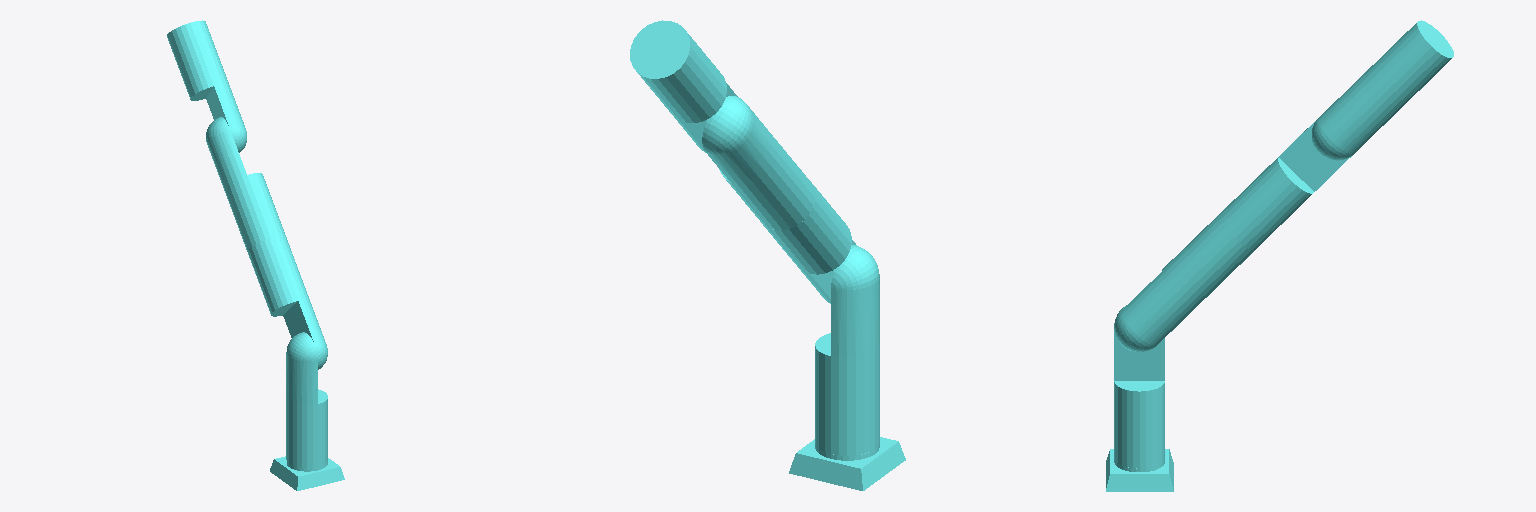
The robot description file, URDF, robot "sw2urdf-example":
<?xml version="1.0" encoding="utf-8"?>
<!-- This URDF was automatically created by SolidWorks to URDF Exporter! Originally created by Stephen Brawner (brawner@gmail.com) 
     Commit Version: 1.5.1-0-g916b5db  Build Version: 1.5.7152.31018
     For more information, please see http://wiki.ros.org/sw_urdf_exporter -->
<robot
  name="sw2urdf-example">

  <!-- ===== ДОБАВЛЕНО: фиктивное мировое звено и фиксированный сустав ===== -->
  <link name="world"/>

  <joint name="world_joint" type="fixed">
    <parent link="world"/>
    <child link="base_link"/>
    <origin xyz="0 0 0" rpy="0 0 0"/>
  </joint>
  <!-- ==================================================================== -->

  <link
    name="base_link">
    <inertial>
      <origin
        xyz="0 1.20463274801058E-17 0.0109992961818199"
        rpy="0 0 0" />
      <mass
        value="0.992874017149237" />
      <inertia
        ixx="0.000487464129670462"
        ixy="-3.2384120981451E-20"
        ixz="1.98289001584187E-36"
        iyy="0.000487464129670462"
        iyz="5.61109884337115E-20"
        izz="0.000882976507717156" />
    </inertial>
    <visual>
      <origin
        xyz="0 0 0"
        rpy="0 0 0" />
      <geometry>
        <mesh
          filename="package://sw2urdf-example/meshes/base_link.STL" />
      </geometry>
      <material
        name="">
        <color
          rgba="0.501960784313725 1 1 1" />
      </material>
    </visual>
    <collision>
      <origin
        xyz="0 0 0"
        rpy="0 0 0" />
      <geometry>
        <mesh
          filename="package://sw2urdf-example/meshes/base_link.STL" />
      </geometry>
    </collision>
  </link>
  <link
    name="link_1">
    <inertial>
      <origin
        xyz="-0.00384919890108487 0.0795689655172414 -1.16215069411395E-18"
        rpy="0 0 0" />
      <mass
        value="3.21012649732785" />
      <inertia
        ixx="0.00949086208873095"
        ixy="0.000797469625841797"
        ixz="-4.06929889510318E-20"
        iyy="0.00137706970018608"
        iyz="2.83479428133353E-19"
        izz="0.00944329978820635" />
    </inertial>
    <visual>
      <origin
        xyz="0 0 0"
        rpy="0 0 0" />
      <geometry>
        <mesh
          filename="package://sw2urdf-example/meshes/link_1.STL" />
      </geometry>
      <material
        name="">
        <color
          rgba="0.501960784313725 1 1 1" />
      </material>
    </visual>
    <collision>
      <origin
        xyz="0 0 0"
        rpy="0 0 0" />
      <geometry>
        <mesh
          filename="package://sw2urdf-example/meshes/link_1.STL" />
      </geometry>
    </collision>
  </link>
  <joint
    name="joint_1"
    type="continuous">
    <origin
      xyz="0 0 0.025"
      rpy="1.5707963267949 0 0" />
    <parent
      link="base_link" />
    <child
      link="link_1" />
    <axis
      xyz="0 1 0" />
  </joint>
  <link
    name="link_2">
    <inertial>
      <origin
        xyz="-0.00384919890108487 -0.0904310344827586 -8.32667268468867E-17"
        rpy="0 0 0" />
      <mass
        value="3.21012649732786" />
      <inertia
        ixx="0.00949086208873095"
        ixy="0.000797469625841799"
        ixz="5.14996031930615E-19"
        iyy="0.00137706970018608"
        iyz="-6.23416249179165E-18"
        izz="0.00944329978820636" />
    </inertial>
    <visual>
      <origin
        xyz="0 0 0"
        rpy="0 0 0" />
      <geometry>
        <mesh
          filename="package://sw2urdf-example/meshes/link_2.STL" />
      </geometry>
      <material
        name="">
        <color
          rgba="0.501960784313725 1 1 1" />
      </material>
    </visual>
    <collision>
      <origin
        xyz="0 0 0"
        rpy="0 0 0" />
      <geometry>
        <mesh
          filename="package://sw2urdf-example/meshes/link_2.STL" />
      </geometry>
    </collision>
  </link>
  <joint
    name="joint_2"
    type="revolute">
    <origin
      xyz="0 0.17 0"
      rpy="0.750965416858167 0 3.14159265358979" />
    <parent
      link="link_1" />
    <child
      link="link_2" />
    <axis
      xyz="1 0 0" />
    <limit
      lower="-2094395"
      upper="2094395"
      effort="0"
      velocity="0" />
  </joint>
  <link
    name="link_3">
    <inertial>
      <origin
        xyz="-0.00384919890108487 -0.0135499270773476 0"
        rpy="0 0 0" />
      <mass
        value="3.21012649732785" />
      <inertia
        ixx="0.00949086208873095"
        ixy="0.000797469625841798"
        ixz="5.96311194867027E-19"
        iyy="0.00137706970018608"
        iyz="-3.03576608295941E-18"
        izz="0.00944329978820636" />
    </inertial>
    <visual>
      <origin
        xyz="0 0 0"
        rpy="0 0 0" />
      <geometry>
        <mesh
          filename="package://sw2urdf-example/meshes/link_3.STL" />
      </geometry>
      <material
        name="">
        <color
          rgba="0.501960784313725 1 1 1" />
      </material>
    </visual>
    <collision>
      <origin
        xyz="0 0 0"
        rpy="0 0 0" />
      <geometry>
        <mesh
          filename="package://sw2urdf-example/meshes/link_3.STL" />
      </geometry>
    </collision>
  </link>
  <joint
    name="joint_3"
    type="continuous">
    <origin
      xyz="0 -0.263118892594589 0"
      rpy="0 -0.194470277885072 -3.14159265358979" />
    <parent
      link="link_2" />
    <child
      link="link_3" />
    <axis
      xyz="0 1 0" />
  </joint>
  <link
    name="link_4">
    <inertial>
      <origin
        xyz="-0.00384919890108492 -0.0904310344827587 1.66533453693773E-16"
        rpy="0 0 0" />
      <mass
        value="3.21012649732786" />
      <inertia
        ixx="0.00949086208873095"
        ixy="0.000797469625841797"
        ixz="-1.02999206386123E-18"
        iyy="0.00137706970018608"
        iyz="4.17417836406919E-18"
        izz="0.00944329978820636" />
    </inertial>
    <visual>
      <origin
        xyz="0 0 0"
        rpy="0 0 0" />
      <geometry>
        <mesh
          filename="package://sw2urdf-example/meshes/link_4.STL" />
      </geometry>
      <material
        name="">
        <color
          rgba="0.501960784313725 1 1 1" />
      </material>
    </visual>
    <collision>
      <origin
        xyz="0 0 0"
        rpy="0 0 0" />
      <geometry>
        <mesh
          filename="package://sw2urdf-example/meshes/link_4.STL" />
      </geometry>
    </collision>
  </link>
  <joint
    name="joint_4"
    type="revolute">
    <origin
      xyz="0 0.076881107405411 0"
      rpy="0 0 -3.14159265358979" />
    <parent
      link="link_3" />
    <child
      link="link_4" />
    <axis
      xyz="1 0 0" />
    <limit
      lower="-2094400"
      upper="2094400"
      effort="0"
      velocity="0" />
  </joint>
</robot>

--- What the picture shows (computed from the rendered views, not written in the file) ---
Views: 3 orthographic renders of the robot side by side, from view 1: azimuth 30°, elevation 25°; view 2: azimuth 150°, elevation 25°; view 3: azimuth 270°, elevation 25°.
Model sw2urdf-example with 6 links and 5 joints (2 revolute, 2 continuous, 1 fixed), rooted at world, posed all joints at 0.
Links seen in each view (by area): view 1: link_1, link_3, link_2, link_4, base_link; view 2: link_1, link_3, link_4, link_2, base_link; view 3: link_4, link_2, link_3, link_1, base_link.
Link boxes in pixels (x1=…): link_1: x1=286, y1=332, x2=327, y2=468; link_3: x1=206, y1=117, x2=285, y2=251; link_2: x1=248, y1=236, x2=327, y2=369; link_4: x1=167, y1=20, x2=246, y2=152; base_link: x1=270, y1=456, x2=344, y2=490; link_1: x1=815, y1=245, x2=879, y2=455; link_3: x1=702, y1=96, x2=814, y2=229; link_4: x1=630, y1=20, x2=737, y2=152; link_2: x1=763, y1=181, x2=855, y2=303; base_link: x1=789, y1=437, x2=905, y2=490; link_4: x1=1312, y1=20, x2=1453, y2=160; link_2: x1=1114, y1=214, x2=1254, y2=351; link_3: x1=1220, y1=121, x2=1351, y2=249; link_1: x1=1114, y1=305, x2=1164, y2=468; base_link: x1=1106, y1=449, x2=1173, y2=491.
Size in the robot's own frame: 0.08 by 0.4099 by 0.5882 metres.
5 mesh visuals loaded from 5 distinct referenced files (5 binary STL).
